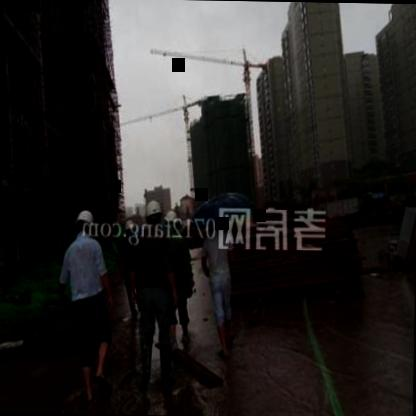helmet: (142, 196, 164, 232), (73, 207, 94, 241), (164, 205, 180, 236), (122, 216, 136, 241)
